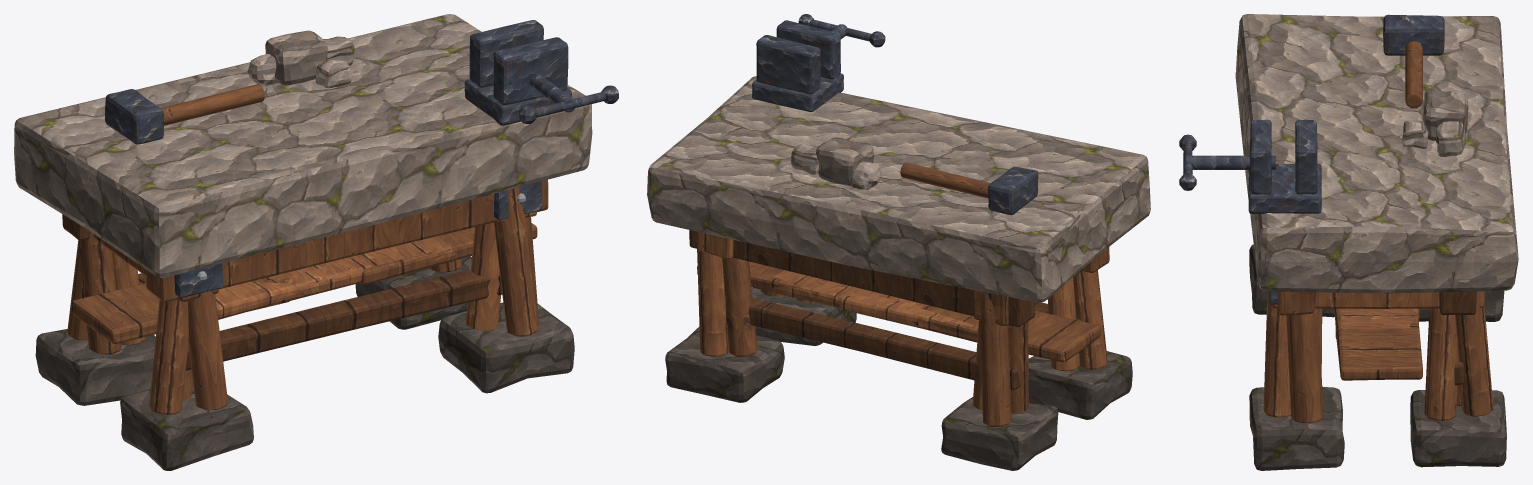
The model's file is workbench.glb.
The picture shows the model from 3 angles, left to right: view 1: azimuth 30°, elevation 25°; view 2: azimuth 150°, elevation 25°; view 3: azimuth 270°, elevation 25°; orthographic projection. The views are drawn at different scales.
Visible parts, largest first — view 1: model; view 2: model; view 3: model.
Part boxes in pixels (x1,y1,x2,y2): model: (14, 14, 618, 470); model: (647, 14, 1150, 470); model: (1179, 14, 1518, 470).
Size of the model in its own units: 1.67 by 1.17 by 1.12.
11 materials, 9 textured.
